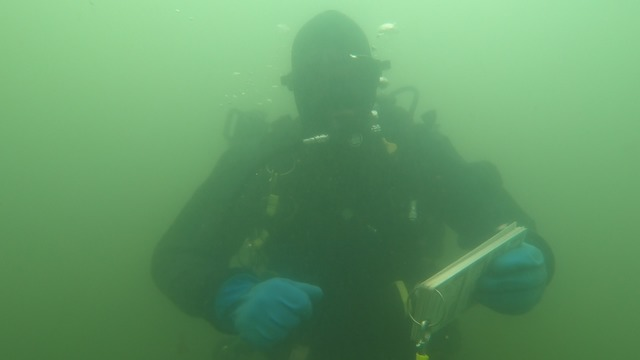Diver: (129, 3, 595, 354)
Hand: (455, 240, 561, 331), (205, 268, 330, 343)
Head: (257, 6, 404, 168)
